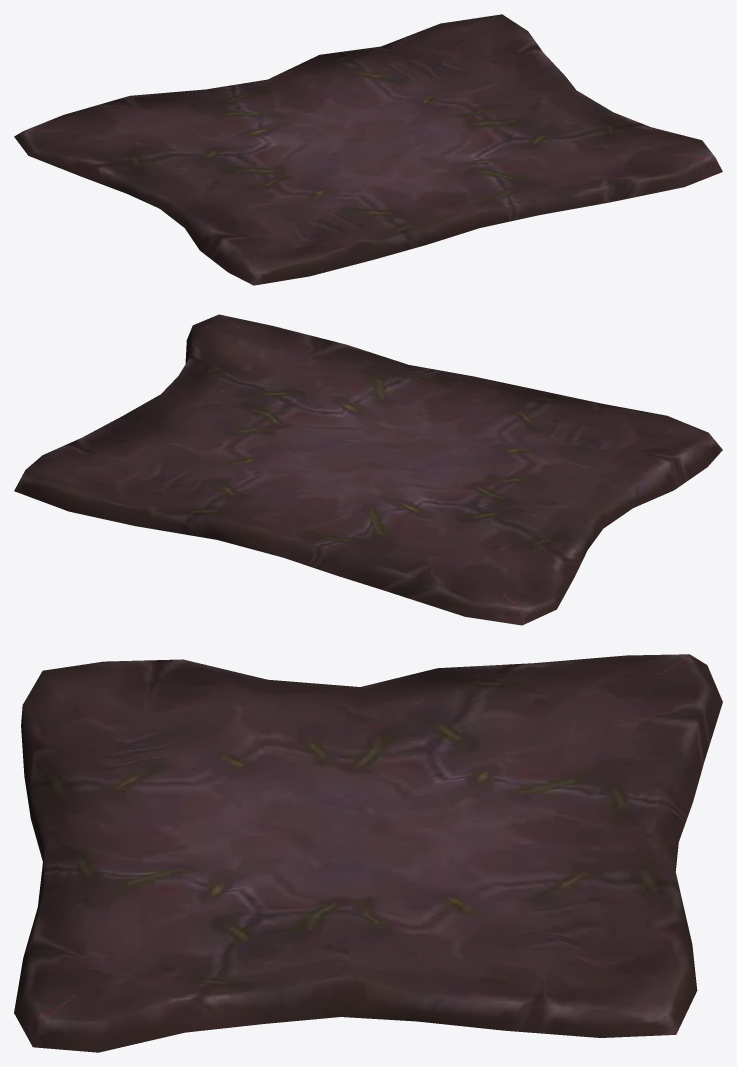
3 views of the same model, one above another, from view 1: azimuth 30°, elevation 25°; view 2: azimuth 150°, elevation 25°; view 3: azimuth 270°, elevation 25° (orthographic). The views are drawn at different scales.
Size of the model in its own units: 2.7 by 0.1507 by 2.05.
Materials: 1 (1 with a texture image).
